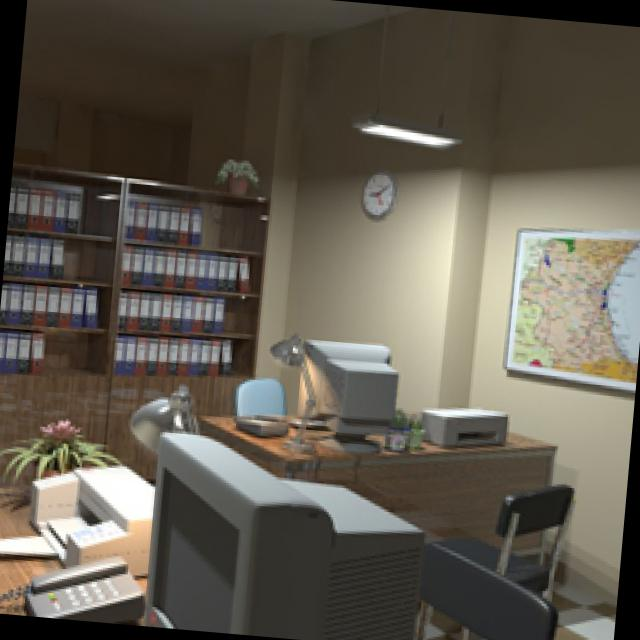books crop: (120, 245, 250, 289), (112, 332, 230, 372), (116, 287, 219, 329), (0, 280, 94, 323), (119, 195, 200, 244), (7, 183, 80, 226), (3, 232, 61, 277), (0, 327, 43, 371)
bookshelves: (0, 160, 268, 445)
ceiling beam: (18, 0, 402, 121)
ceiling lamps: (352, 114, 459, 152)
chair: (418, 540, 551, 640), (234, 374, 287, 415)
chair -occluded-: (432, 482, 571, 592)
clock crop: (354, 166, 395, 215)
desk calendar: (0, 455, 393, 640), (199, 411, 546, 534)
lamp crop: (265, 325, 316, 451)
lamp shade: (118, 385, 198, 451)
monitor crop: (141, 429, 418, 640), (294, 333, 393, 449)
phone charger: (17, 555, 141, 620), (228, 410, 286, 433)
plant -x: (0, 415, 112, 482), (215, 155, 253, 192)
plants: (374, 407, 424, 447)
poster crop: (504, 224, 640, 395)
printer: (0, 459, 150, 573), (418, 403, 503, 444)
